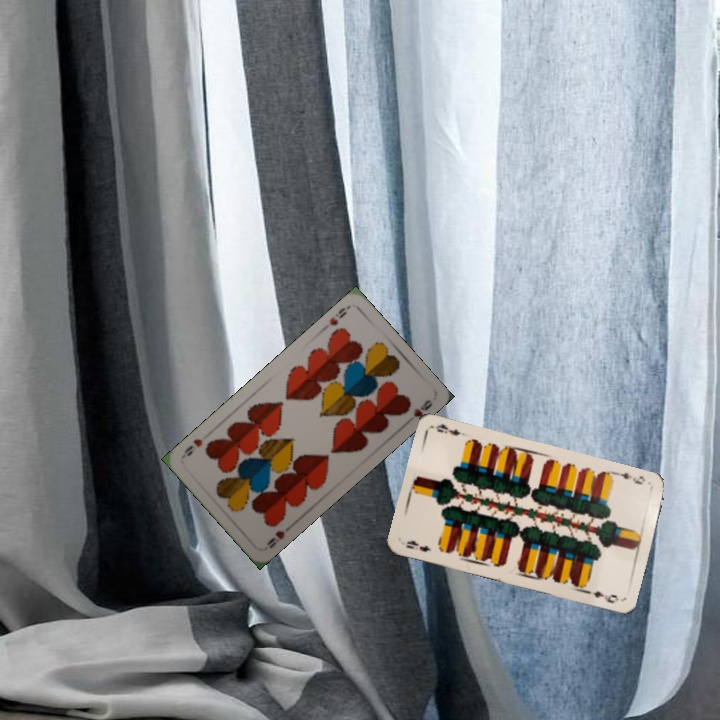E9: (613, 468, 647, 487), (402, 536, 433, 554)
H9: (262, 521, 295, 551), (325, 303, 349, 328)
